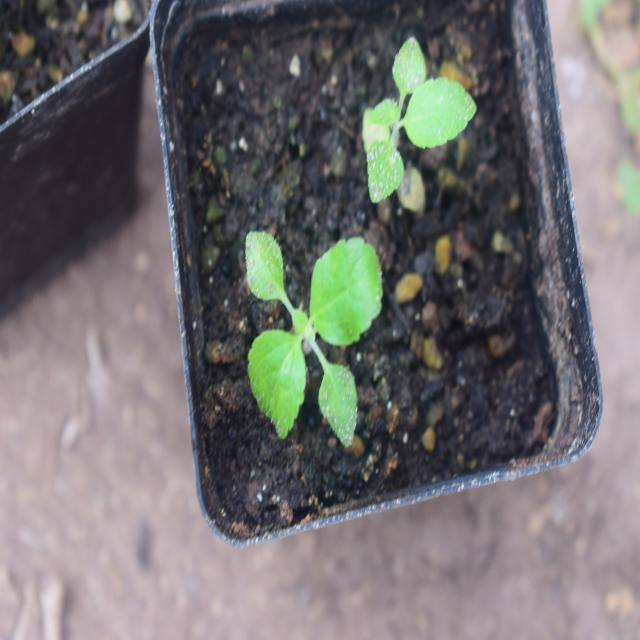billygoat_weed: (228, 219, 380, 457), (338, 52, 481, 198)
